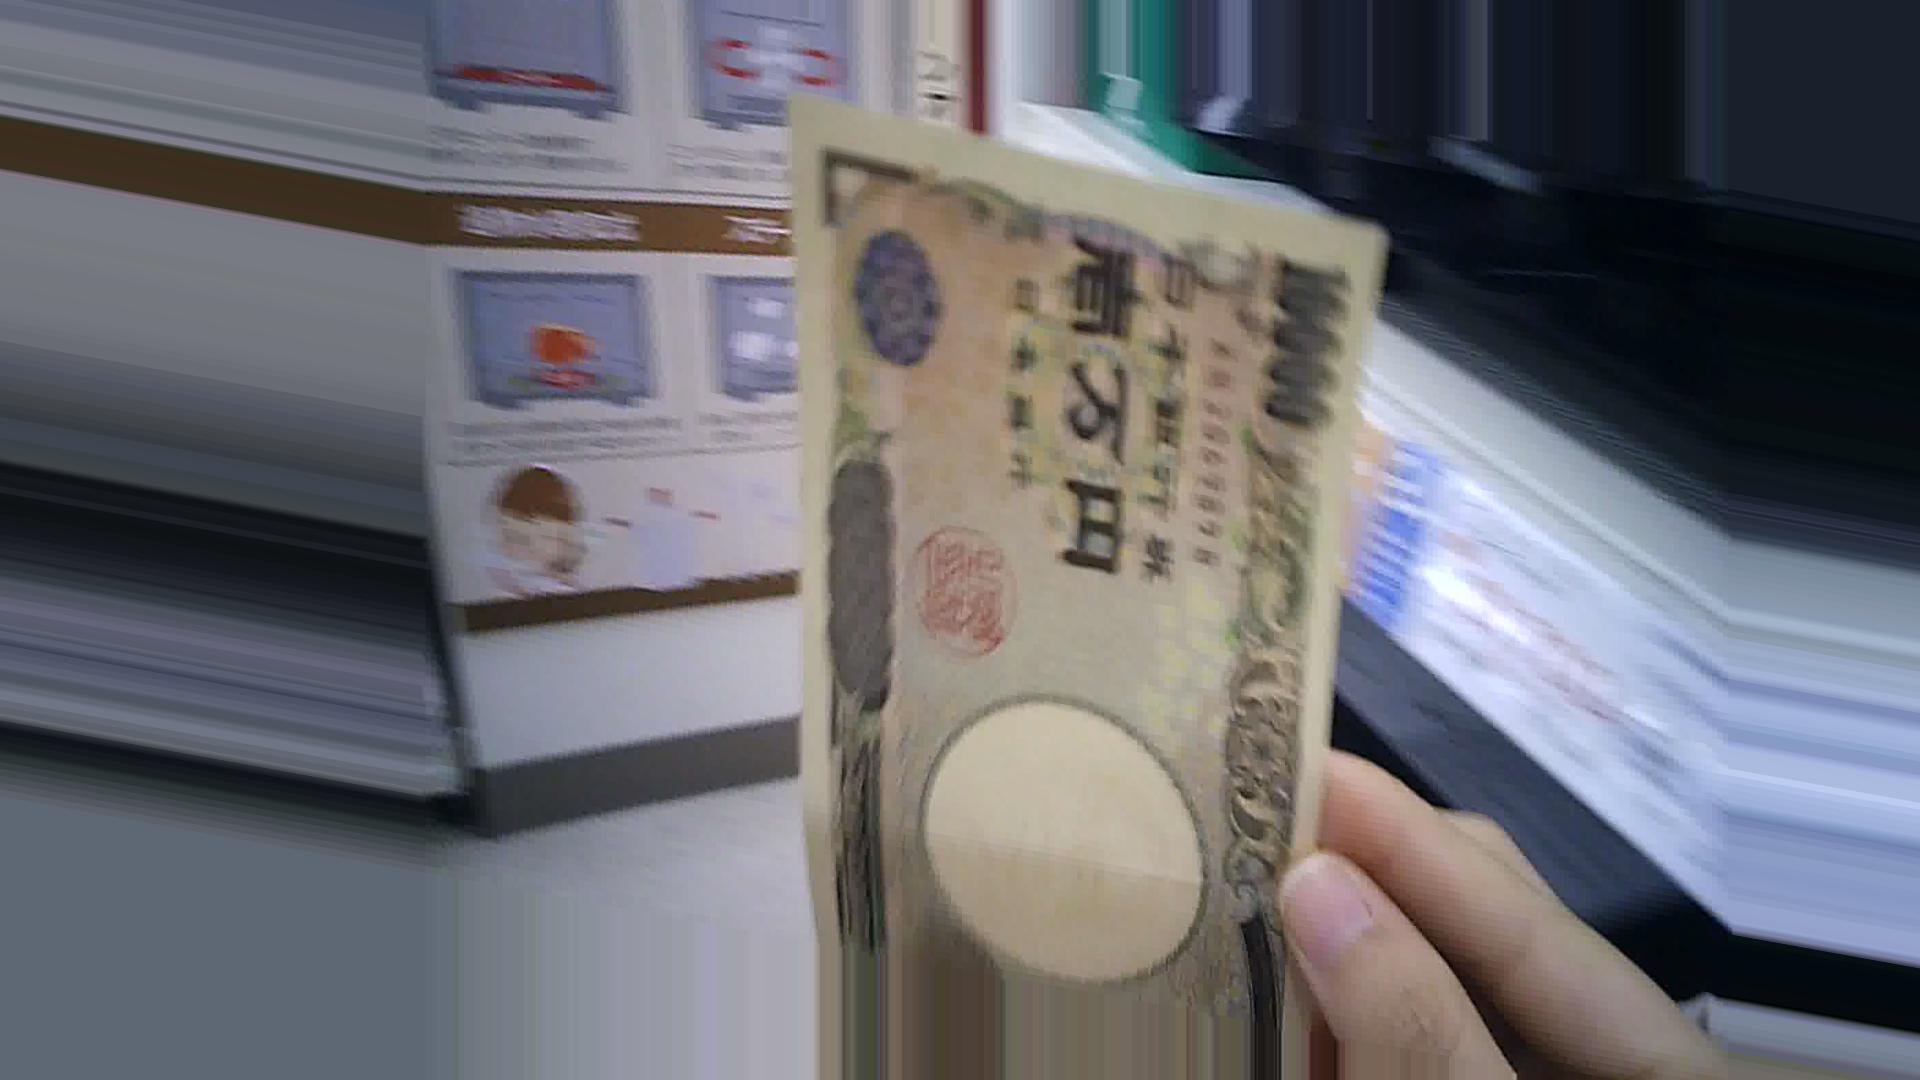10,000 Yen: (746, 103, 1379, 919)
